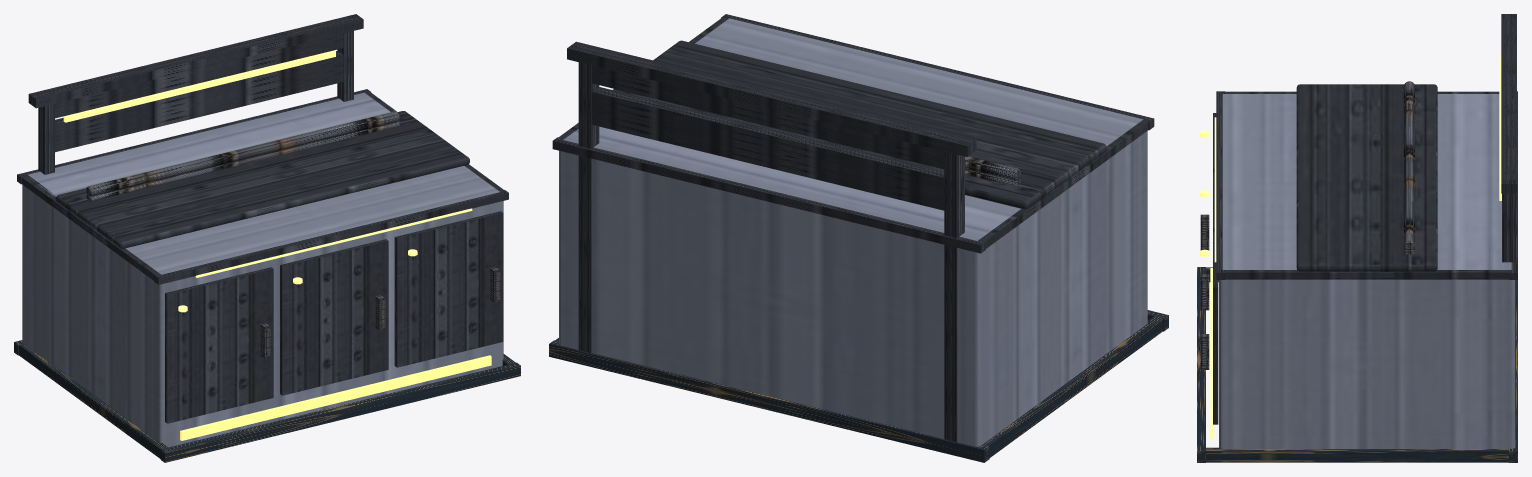
The model's file is power_switchgear.glb.
3 renders of one model, left to right at view 1: azimuth 30°, elevation 25°; view 2: azimuth 150°, elevation 25°; view 3: azimuth 270°, elevation 25°, orthographic. The views are drawn at different scales.
Parts seen in each view (by area): view 1: body, top, sight_shell, door2, door0, door1, shelltoe0, bus0, shellrim0, warn, shelltoes0, sightglow (+4 smaller); view 2: body, sight_shell, top, shelltoe2, shellrim2, shelltoes0, shellrims0, shellrim0, bus0; view 3: body, top, shelltoes2, sight_shell, shellrims2, bus0, shelltoe0, shellrim0, door2, warn, shelltoe2, sightglow (+6 smaller).
Part boxes in pixels (x1=…): body: x1=22, y1=92, x2=503, y2=447; top: x1=55, y1=111, x2=469, y2=248; sight_shell: x1=28, y1=14, x2=363, y2=174; door2: x1=394, y1=211, x2=503, y2=367; door0: x1=165, y1=267, x2=273, y2=423; door1: x1=280, y1=239, x2=388, y2=395; shelltoe0: x1=160, y1=362, x2=520, y2=462; bus0: x1=86, y1=111, x2=399, y2=196; shellrim0: x1=154, y1=190, x2=508, y2=284; warn: x1=180, y1=355, x2=491, y2=440; shelltoes0: x1=19, y1=343, x2=169, y2=458; sightglow: x1=63, y1=50, x2=335, y2=122; body: x1=559, y1=18, x2=1147, y2=446; sight_shell: x1=567, y1=41, x2=976, y2=442; top: x1=613, y1=40, x2=1106, y2=209; shelltoe2: x1=549, y1=340, x2=989, y2=462; shellrim2: x1=552, y1=137, x2=985, y2=253; shelltoes0: x1=982, y1=315, x2=1162, y2=457; shellrims0: x1=978, y1=119, x2=1149, y2=248; shellrim0: x1=721, y1=14, x2=1154, y2=130; bus0: x1=965, y1=156, x2=1020, y2=180; body: x1=1219, y1=94, x2=1515, y2=448; top: x1=1296, y1=84, x2=1437, y2=271; shelltoes2: x1=1206, y1=447, x2=1508, y2=462; sight_shell: x1=1501, y1=14, x2=1516, y2=439; shellrims2: x1=1223, y1=270, x2=1510, y2=279; bus0: x1=1404, y1=81, x2=1414, y2=250; shelltoe0: x1=1197, y1=267, x2=1205, y2=462; shellrim0: x1=1216, y1=91, x2=1225, y2=279; door2: x1=1213, y1=232, x2=1218, y2=424; warn: x1=1210, y1=268, x2=1213, y2=438; shelltoe2: x1=1509, y1=280, x2=1517, y2=462; sightglow: x1=1499, y1=55, x2=1501, y2=200.
Bounding box in the file's own units: 2.48 × 1.7 × 1.82.
Materials: 7 (5 with a texture image).
